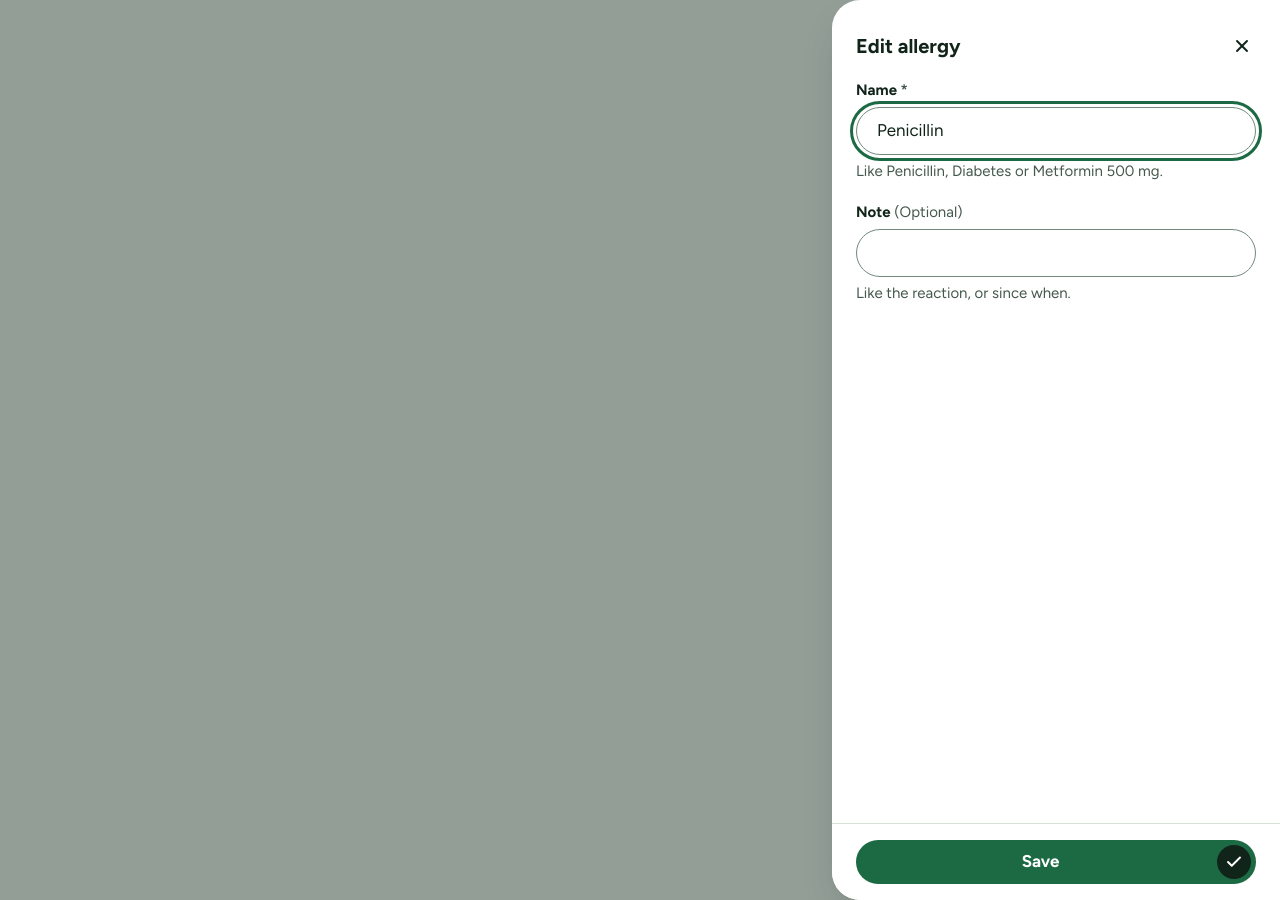
AlertSheet changing an alert (D119) › clears a note, and says a refusal
Step 1. Click the button "Save" → (1056, 862), box [856,840,1256,884]
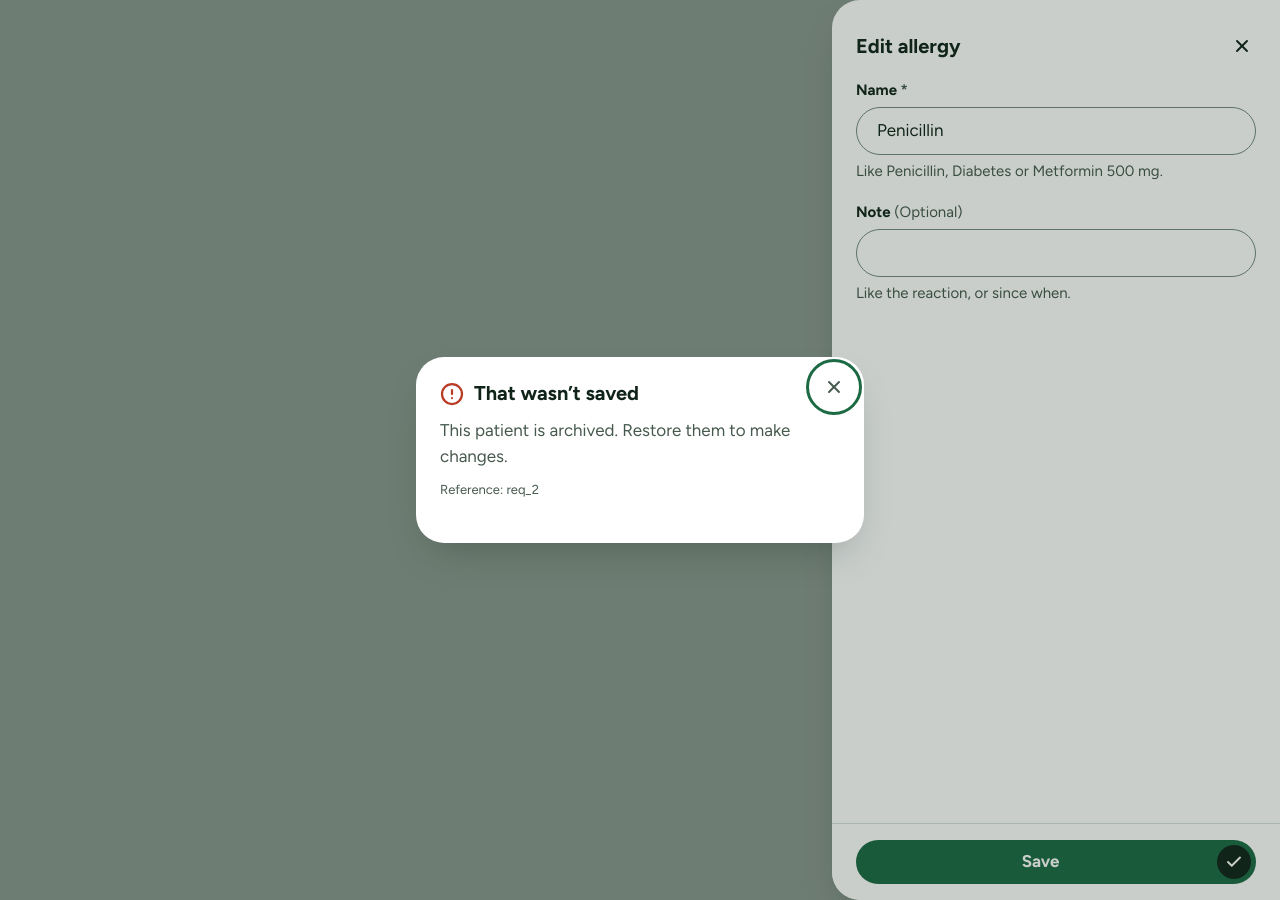
Now the heading "That wasn’t saved" is shown, box [474,381,639,406]
